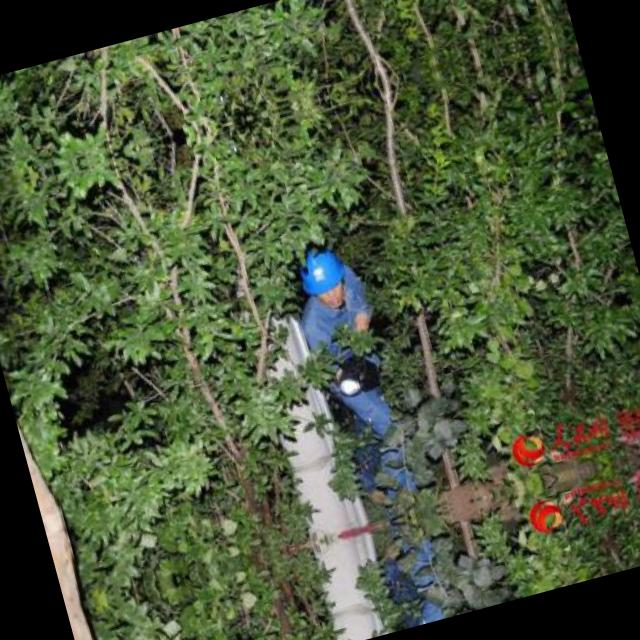helmet: (291, 240, 355, 315)
